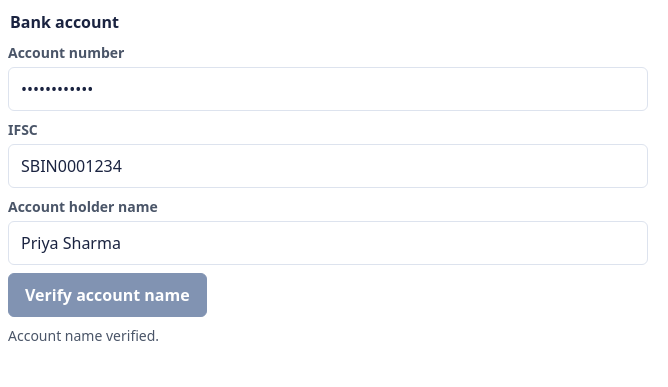
Test case: FB-A8.1 bank-account state and security › presents persisted verified data without an adapter and survives adapter removal
Expected: the text "temporarily unavailable" is not shown
Expected: the message shows "verified", top-left (8, 326), bottom-right (159, 345)
Type "9" into the field labelled "IFSC" at (328, 166), box top-left (8, 144), bottom-right (648, 188)
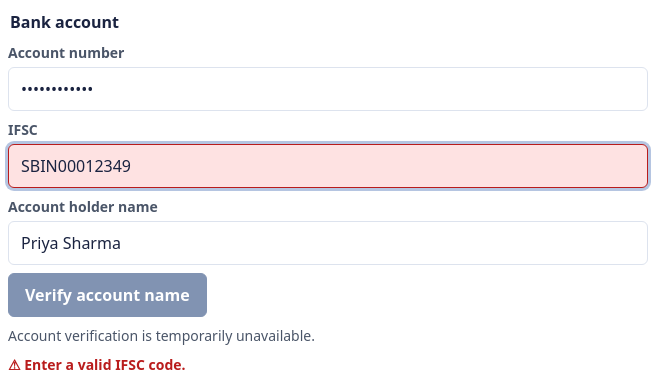
Expected: the text "Account verification is temporarily unavailable." is shown, top-left (8, 326), bottom-right (315, 345)
